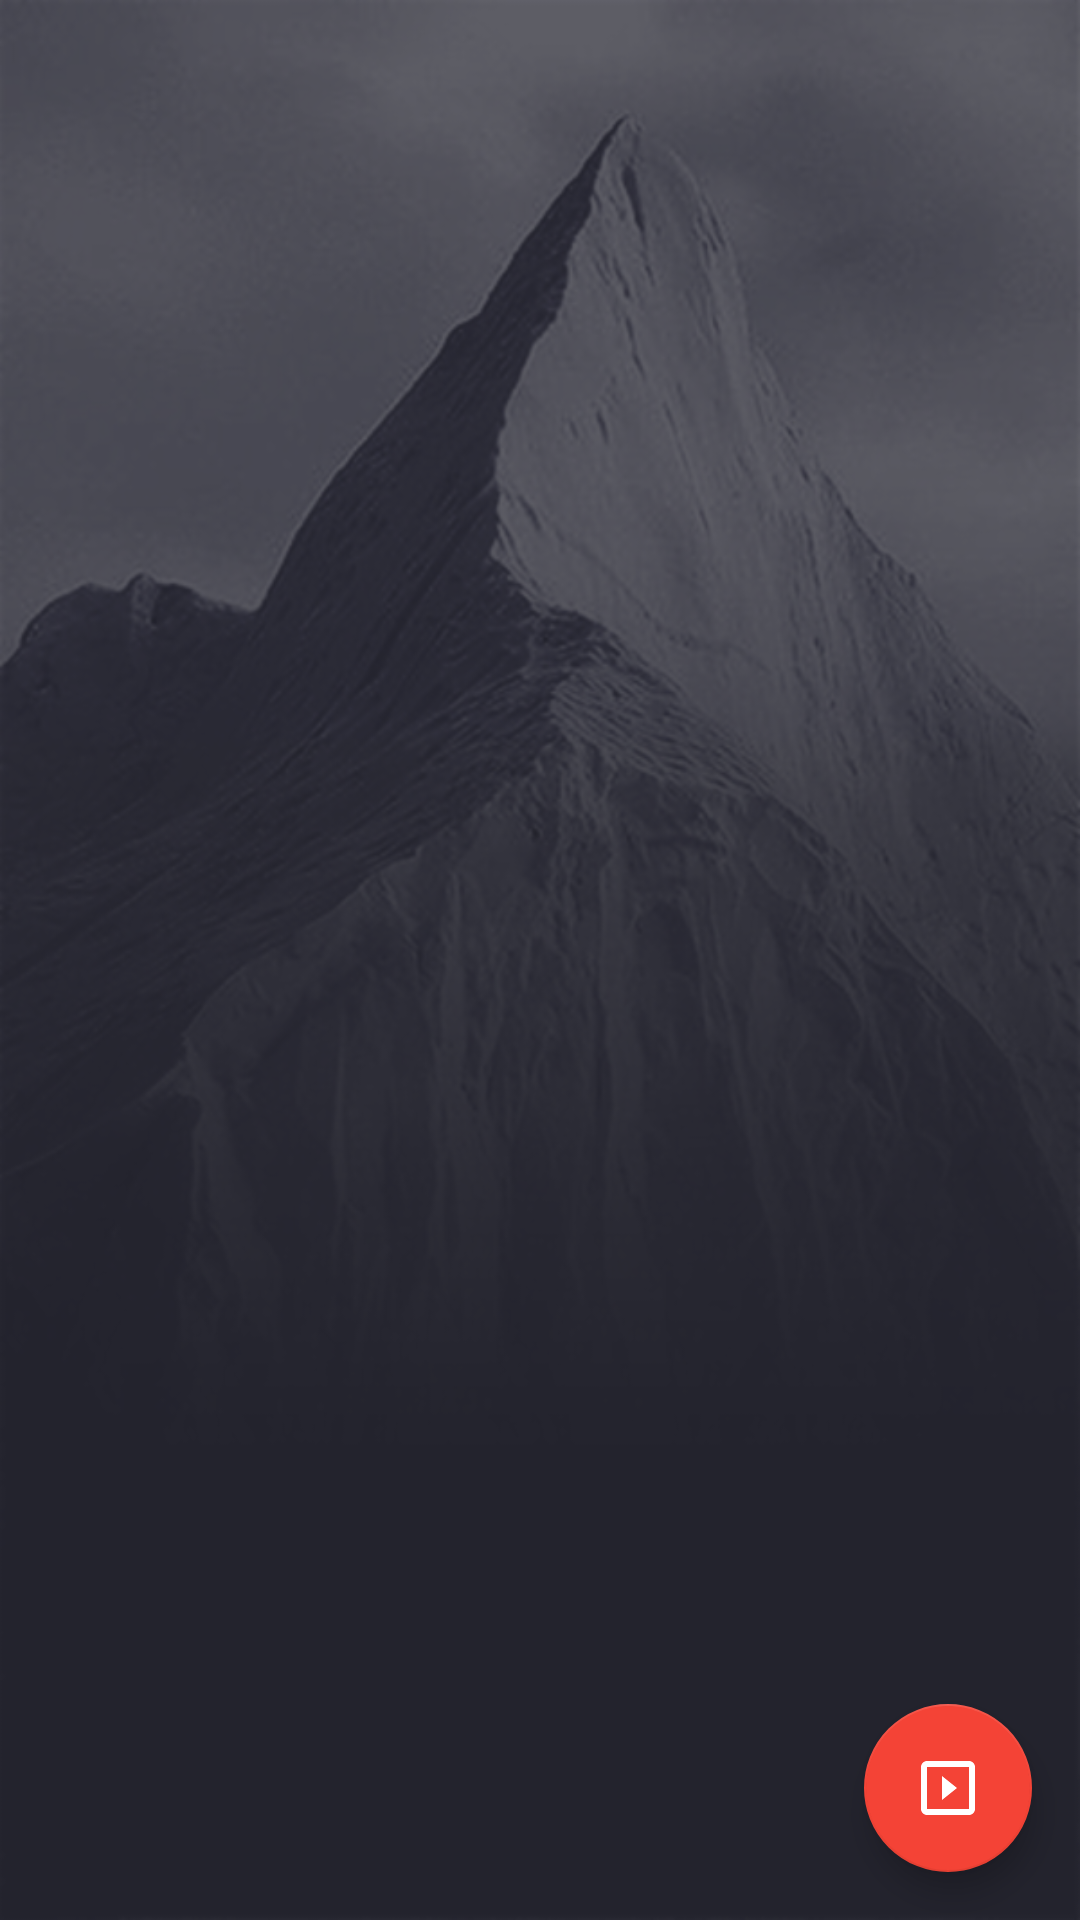

Point at icon controls on the screen. Image size 1080x1920, points as (x,y).
slideshow: (948,1788)
